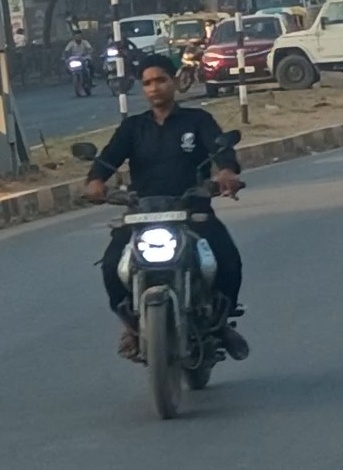BikeWithRider: (67, 51, 255, 424), (56, 28, 102, 101)
NoHelmet: (130, 51, 189, 113)
